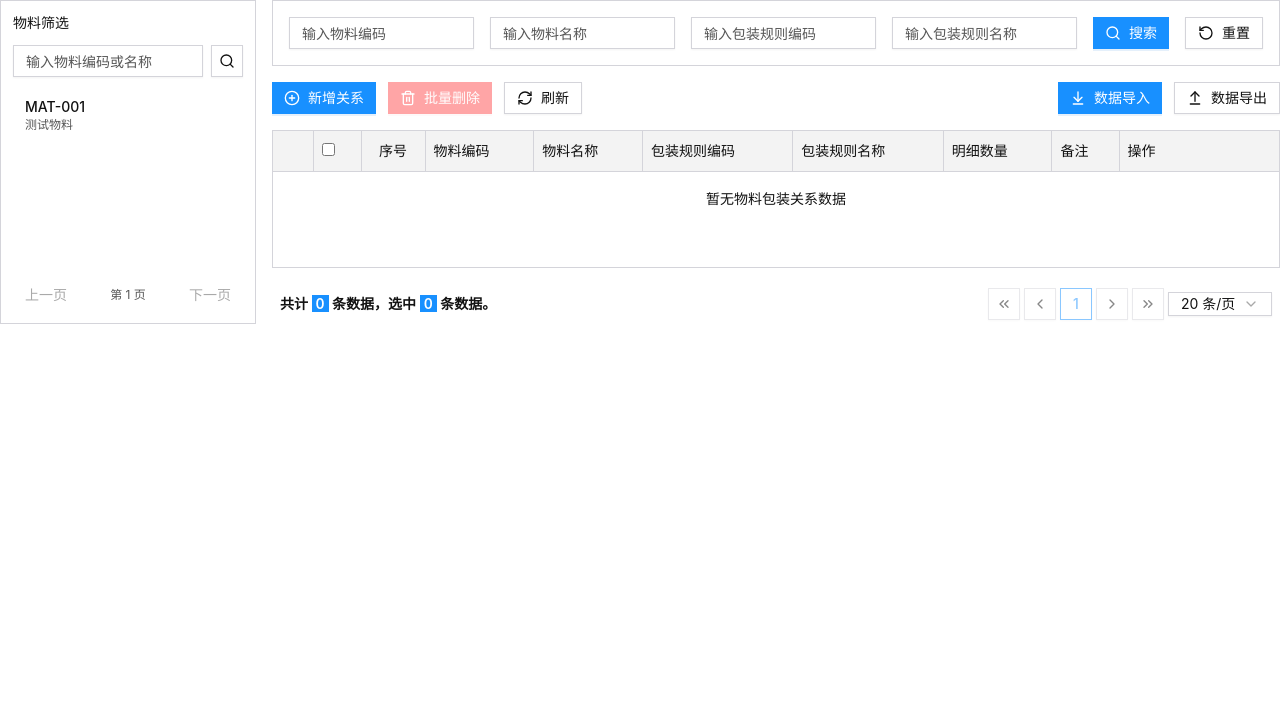
MaterialPackagingRelationPage › opens create form dialog when clicking add button
Click the button "新增关系" at (324, 98), box [272,82,376,114]
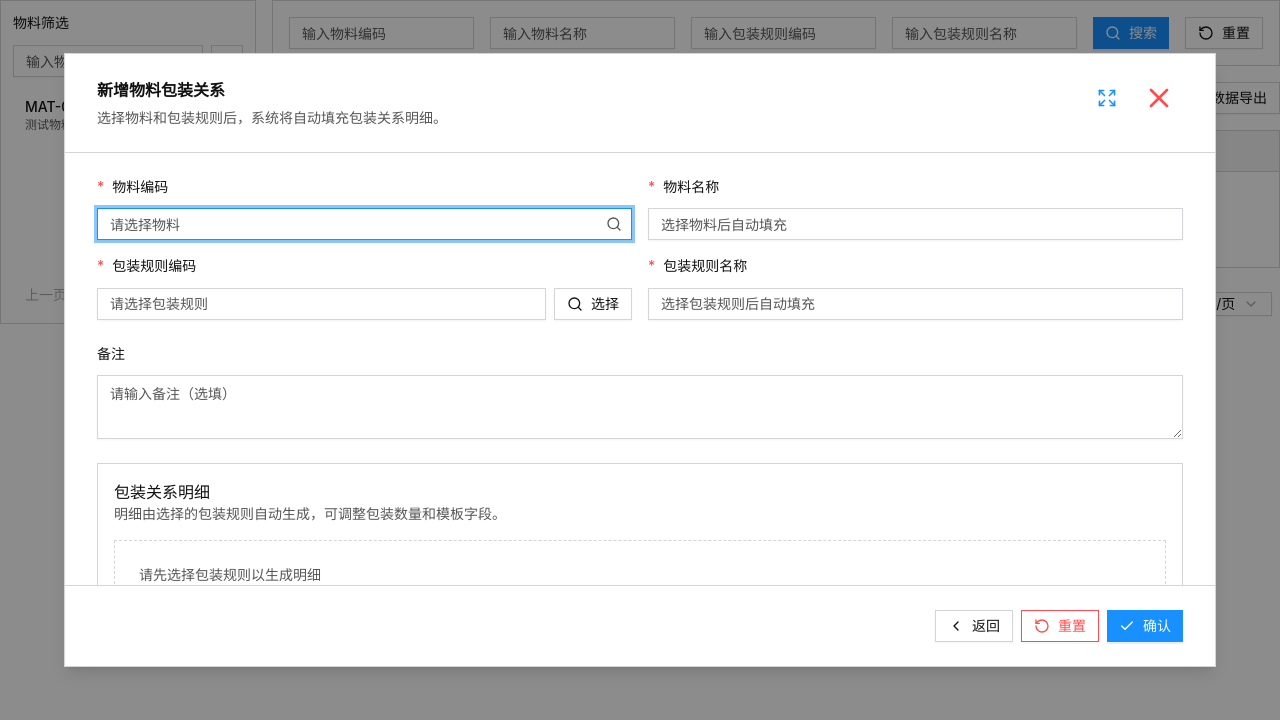
Expected: the dialog with test id "material-packaging-relation-form-dialog" is shown
